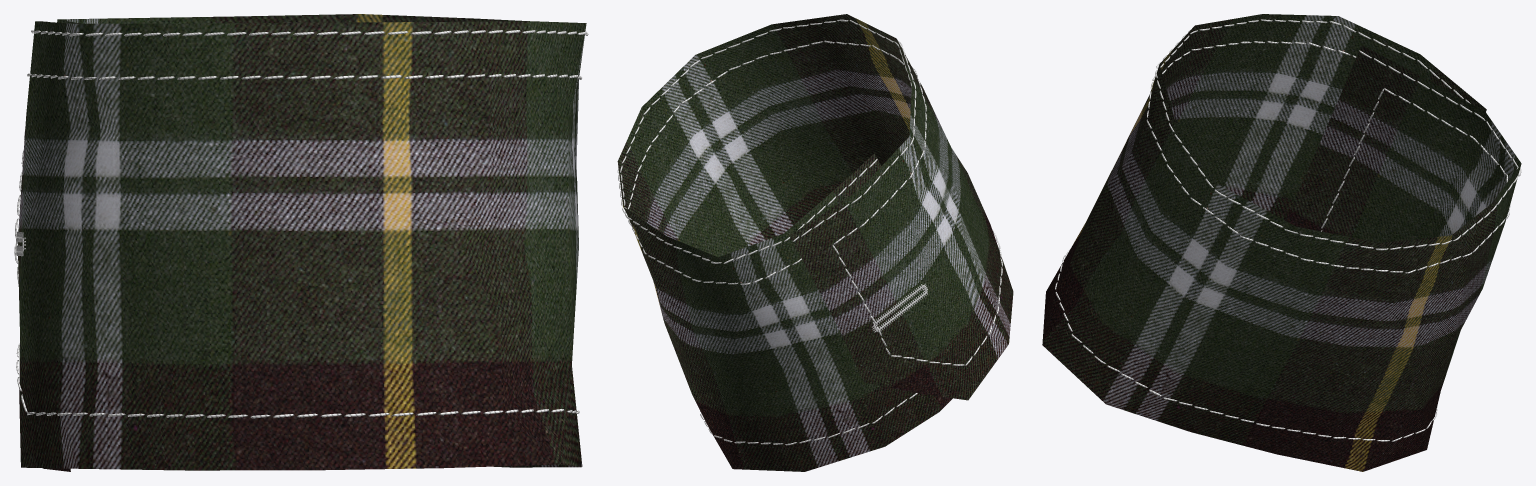
File: sz2youxiukq.glb
3 views of the same model, side by side, from view 1: azimuth 30°, elevation 25°; view 2: azimuth 150°, elevation 25°; view 3: azimuth 270°, elevation 25° (orthographic). The views are drawn at different scales.
Parts seen in each view (by area): view 1: sz2youxiukq, _1; view 2: sz2youxiukq, _1; view 3: sz2youxiukq, _1.
Part boxes in pixels (<box>): sz2youxiukq: <box>18,14,586,471</box>; _1: <box>14,30,588,418</box>; sz2youxiukq: <box>617,14,1013,471</box>; _1: <box>617,19,1002,445</box>; sz2youxiukq: <box>1042,14,1521,471</box>; _1: <box>1055,19,1521,441</box>.
Size of the model in its own units: 0.8857 by 0.9223 by 1.01.
Materials: 4 (4 with a texture image).
